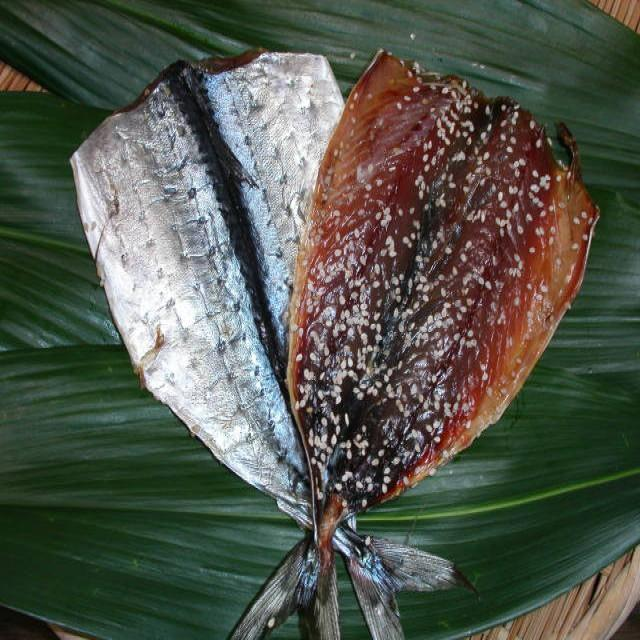熟制海鲜: (58, 46, 542, 577)
